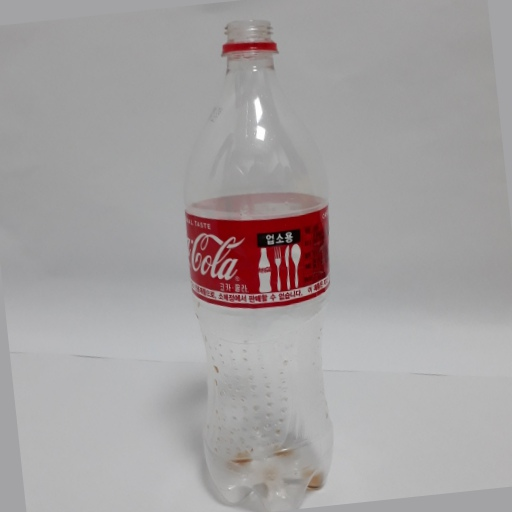Plastic_0: (177, 18, 344, 511)
